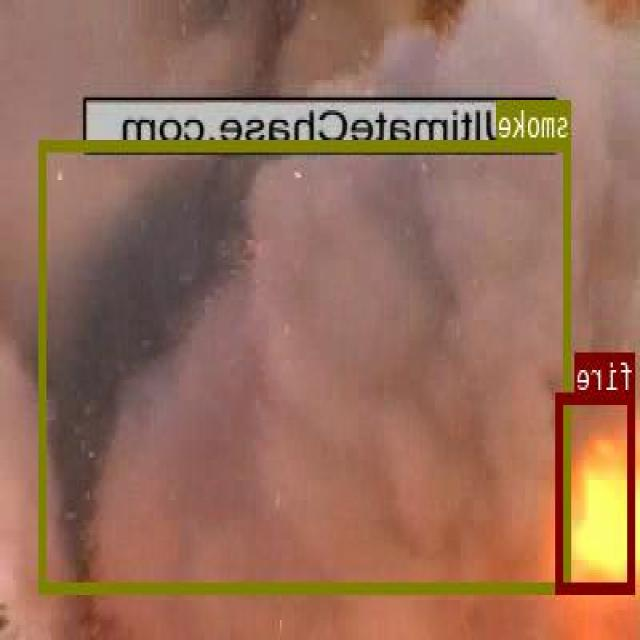fire: (558, 390, 637, 591)
smoke: (40, 139, 572, 592)
